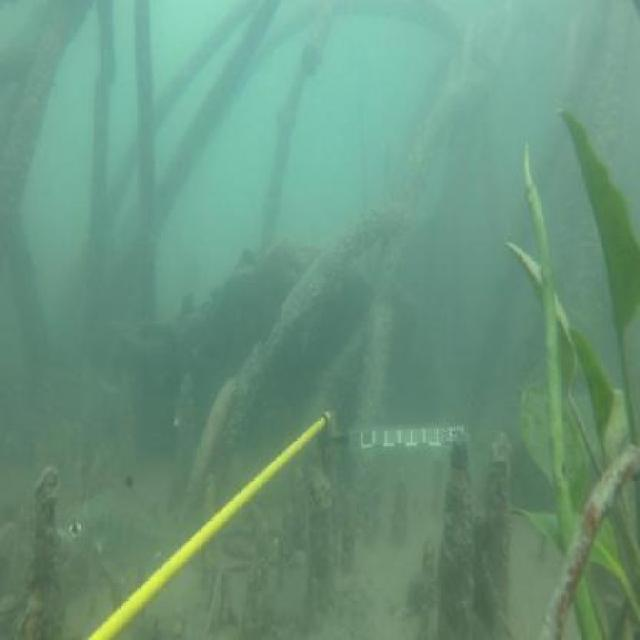gerres: (48, 483, 210, 595)
